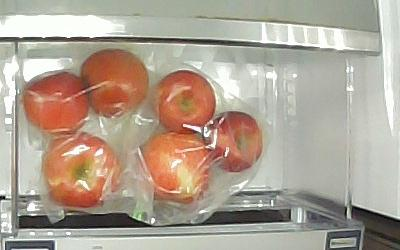apple_vinyl: (44, 134, 123, 207), (140, 132, 209, 205), (81, 49, 148, 118), (152, 69, 216, 134), (24, 71, 88, 135), (207, 111, 264, 172)
